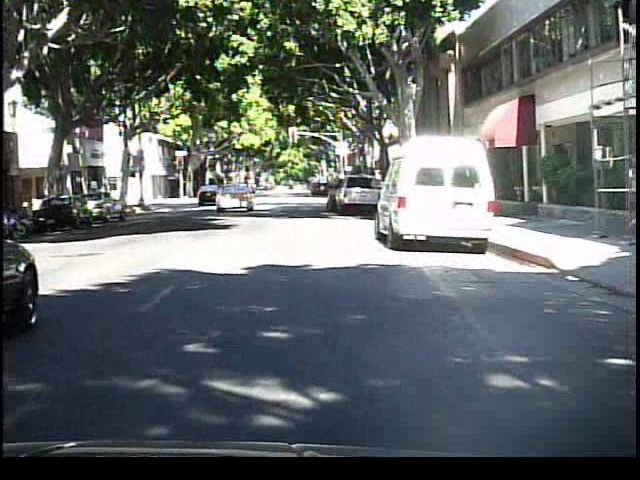person: (617, 151, 639, 240), (236, 175, 259, 209)
